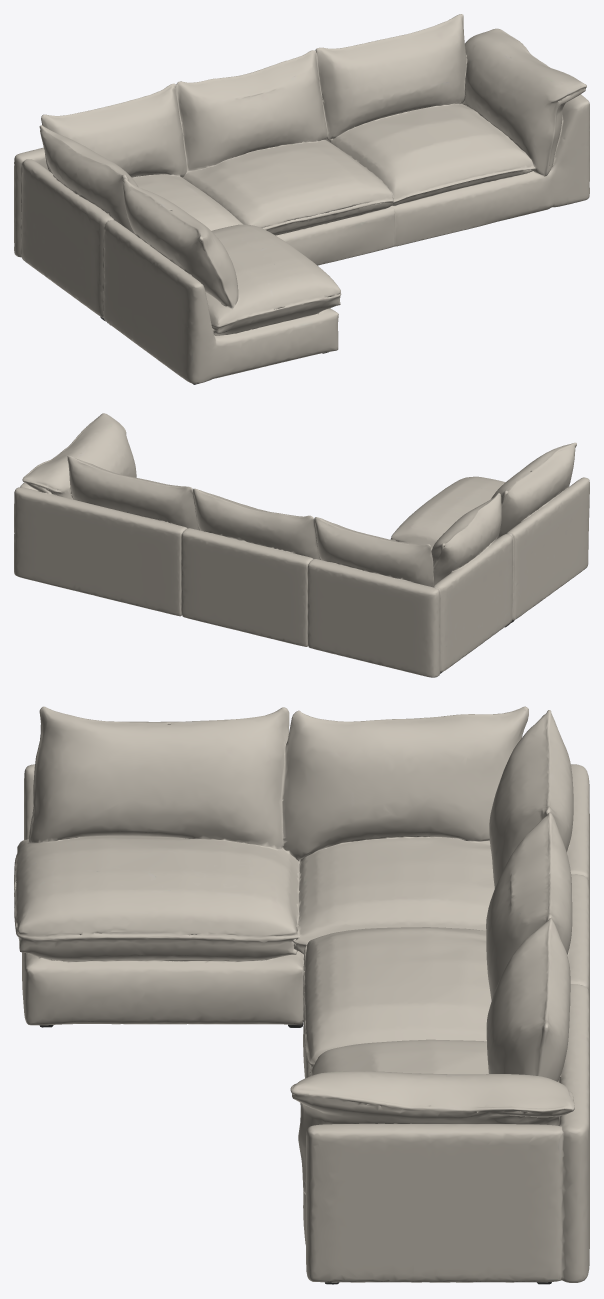
The model's file is l_shaped_sectional_sofa_s8c7yw.glb.
The picture shows the model from 3 angles, top to bottom: view 1: azimuth 30°, elevation 25°; view 2: azimuth 150°, elevation 25°; view 3: azimuth 270°, elevation 25°; orthographic projection. The views are drawn at different scales.
Visible parts, largest first — view 1: world; view 2: world; view 3: world.
Boxes of the visible parts, x1=… form: world: x1=14, y1=14, x2=589, y2=384; world: x1=14, y1=413, x2=589, y2=677; world: x1=14, y1=706, x2=589, y2=1284.
Bounding box in the file's own units: 0.9905 × 0.2821 × 0.6504.
Materials: 1 (1 with a texture image).
